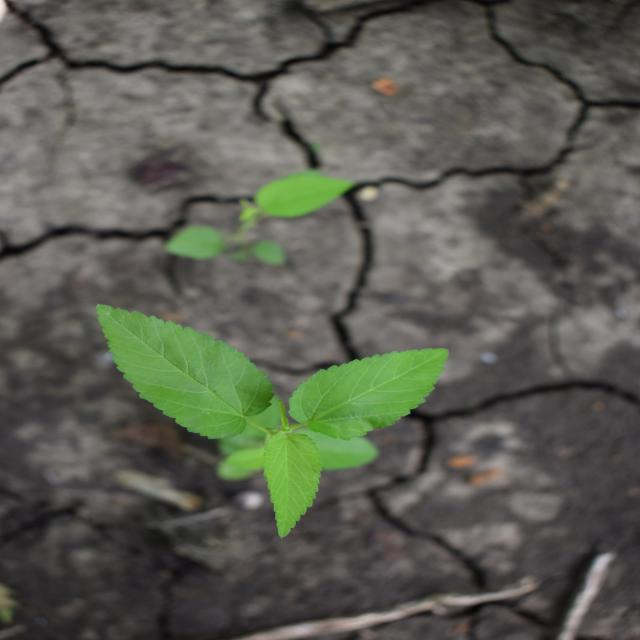PricklySida: (92, 299, 455, 541)
